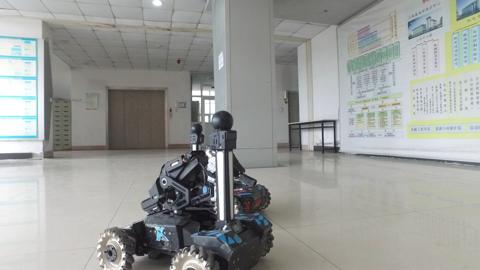chariot: (97, 105, 271, 270)
